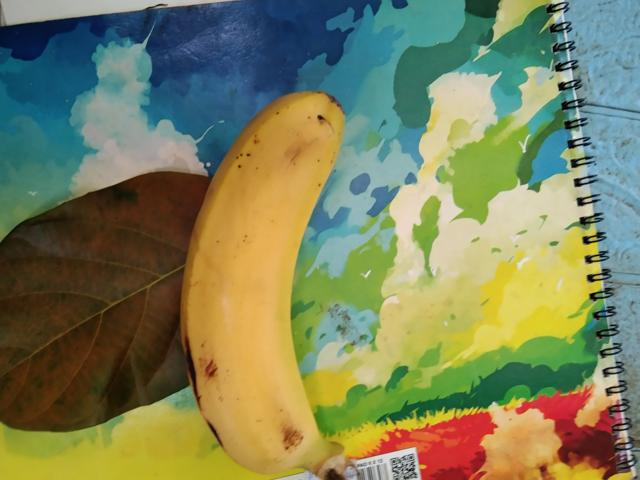freshripe: (159, 87, 352, 468)
